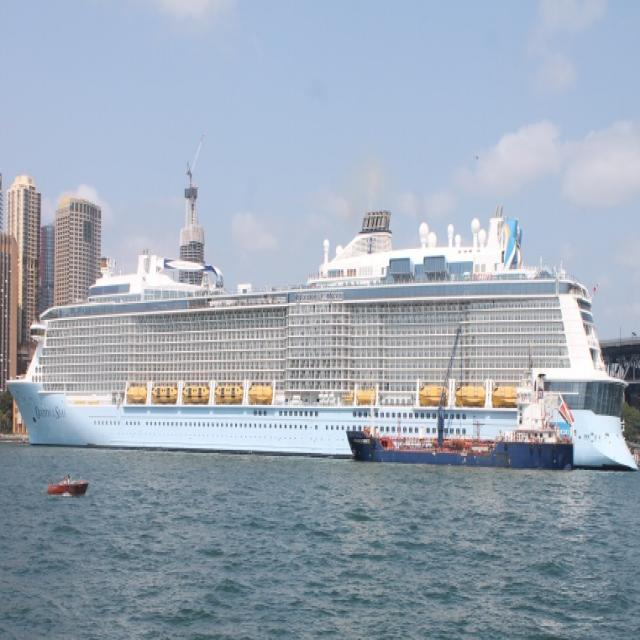cruises: (4, 208, 635, 479)
